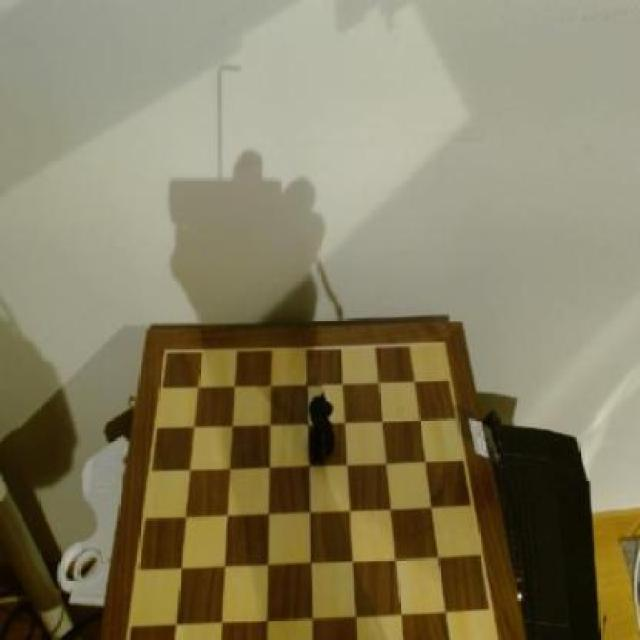black-king: (306, 382, 339, 464)
